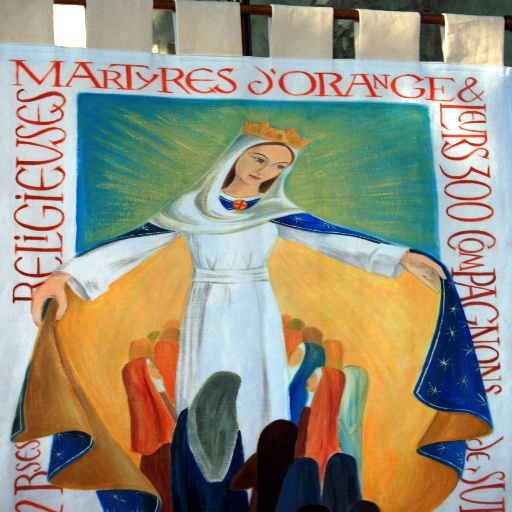hand: (400, 248, 450, 294), (17, 269, 67, 309)
